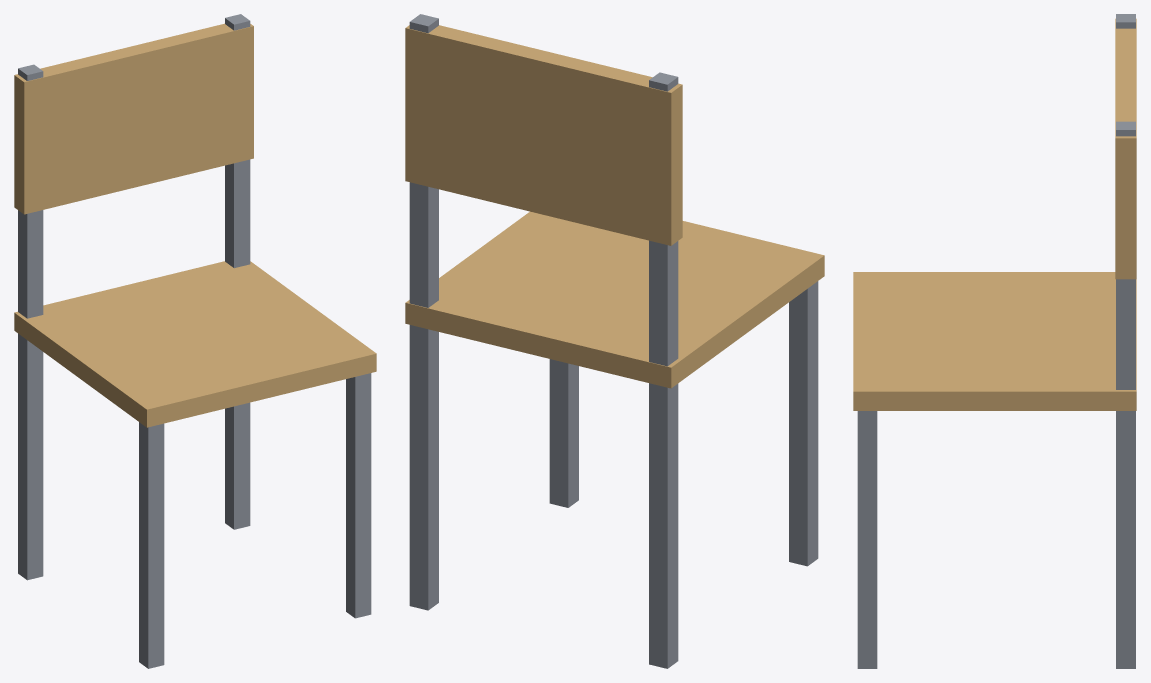
File: p_chair.glb
The picture shows the model from 3 angles, left to right: view 1: azimuth 30°, elevation 25°; view 2: azimuth 150°, elevation 25°; view 3: azimuth 270°, elevation 25°; orthographic projection. The views are drawn at different scales.
Parts seen in each view (by area): view 1: chair; view 2: chair; view 3: chair.
Boxes of the visible parts, x1,y1,x2,y2 form: chair: (14, 14, 376, 668); chair: (405, 14, 824, 668); chair: (853, 14, 1136, 668).
Bounding box in the file's own units: 0.4 × 0.84 × 0.4.
